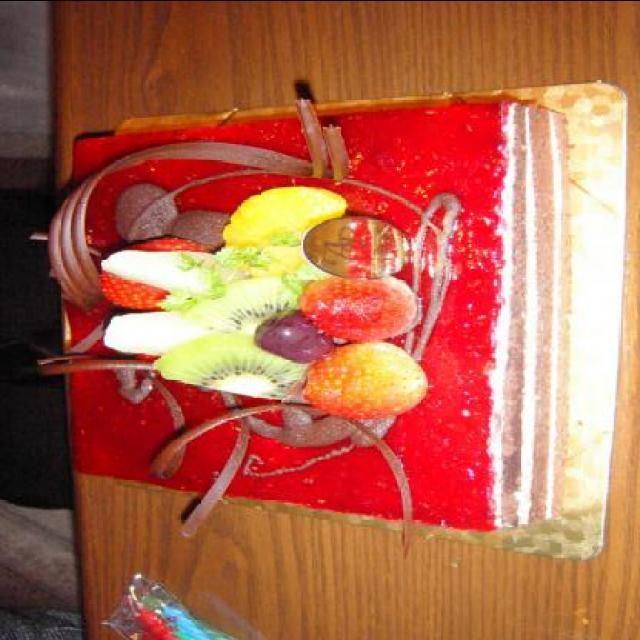Strawberry: (302, 340, 426, 418), (100, 234, 212, 312), (293, 275, 385, 337)
